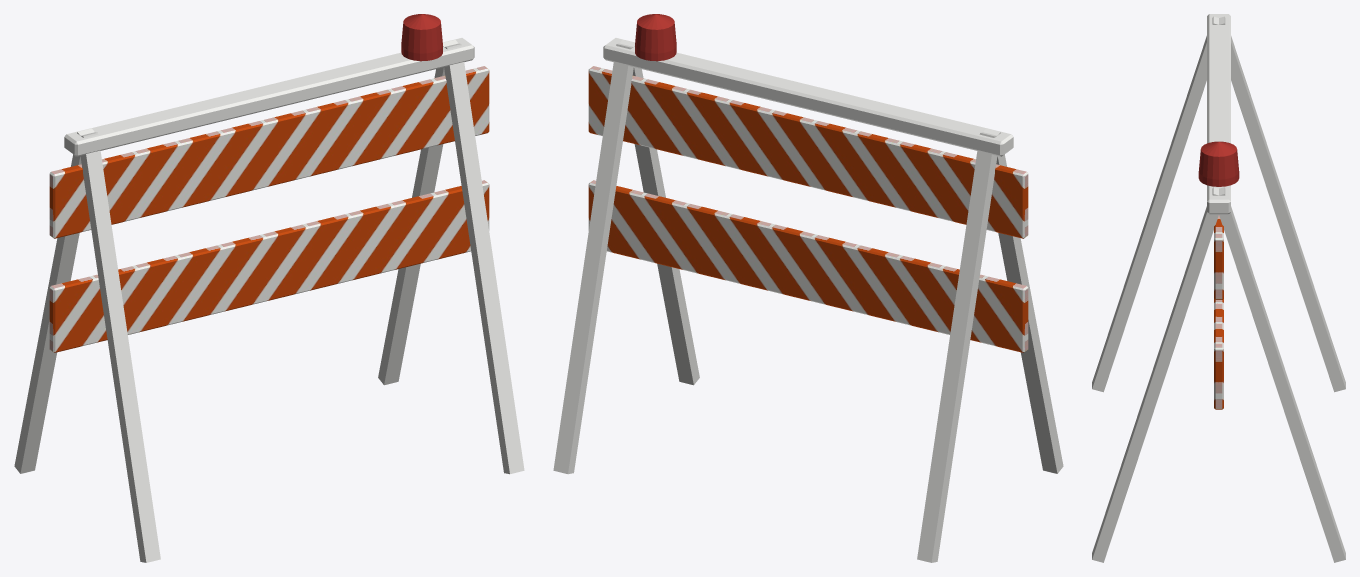
The model's file is cavalete_bloqueio.glb.
The picture shows the model from 3 angles, left to right: view 1: azimuth 30°, elevation 25°; view 2: azimuth 150°, elevation 25°; view 3: azimuth 270°, elevation 25°; orthographic projection. The views are drawn at different scales.
Parts seen in each view (by area): view 1: cavalete_bloqueio_faixa_zebrada, cavalete_bloqueio_tinta_branca, cavalete_bloqueio_lanterna_carro; view 2: cavalete_bloqueio_faixa_zebrada, cavalete_bloqueio_tinta_branca, cavalete_bloqueio_lanterna_carro; view 3: cavalete_bloqueio_tinta_branca, cavalete_bloqueio_faixa_zebrada, cavalete_bloqueio_lanterna_carro.
Part boxes in pixels (x1,y1,x2,y2): cavalete_bloqueio_faixa_zebrada: [49, 66, 489, 352]; cavalete_bloqueio_tinta_branca: [14, 38, 524, 562]; cavalete_bloqueio_lanterna_carro: [401, 14, 442, 61]; cavalete_bloqueio_faixa_zebrada: [588, 66, 1028, 352]; cavalete_bloqueio_tinta_branca: [553, 38, 1063, 562]; cavalete_bloqueio_lanterna_carro: [635, 14, 676, 61]; cavalete_bloqueio_tinta_branca: [1092, 14, 1345, 562]; cavalete_bloqueio_faixa_zebrada: [1214, 215, 1223, 409]; cavalete_bloqueio_lanterna_carro: [1198, 141, 1239, 186].
Bounding box in the file's own units: 1.2 × 1.1 × 0.6287.
Materials: 4 (1 with a texture image).
